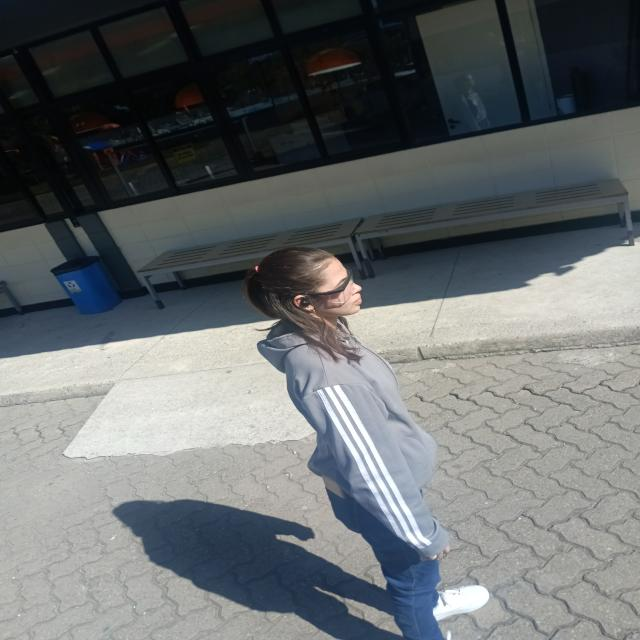oculos-epi: (290, 265, 355, 303)
